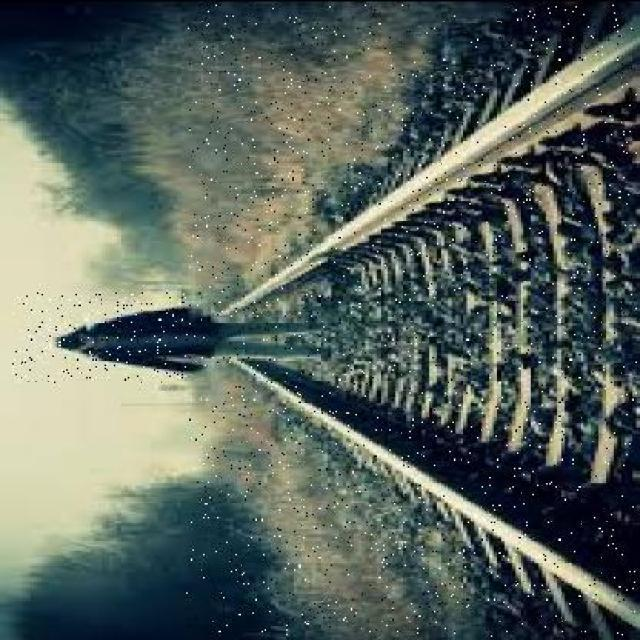danger: (12, 290, 342, 382)
rail: (187, 4, 637, 635)
